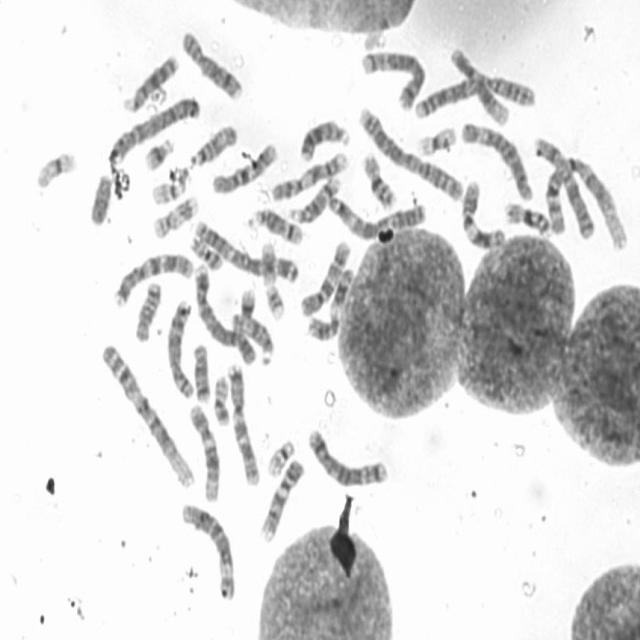A1: (99, 340, 196, 492), (547, 156, 627, 251)
A2: (354, 104, 462, 202), (415, 72, 537, 120)
A3: (194, 218, 299, 286), (328, 195, 426, 241)
B4: (108, 95, 201, 168), (193, 264, 256, 366)
B5: (307, 428, 390, 488), (358, 51, 426, 112)
C10: (298, 240, 352, 318), (212, 143, 279, 194)
C11: (308, 268, 356, 343), (462, 182, 506, 247)
C12: (448, 48, 510, 127), (190, 405, 220, 505)
C6: (458, 121, 532, 202), (181, 506, 237, 602)
C7: (226, 362, 261, 487), (114, 253, 195, 307)
C8: (180, 27, 243, 100), (166, 300, 195, 397)
C9: (271, 150, 348, 203), (260, 460, 306, 544)
D13: (123, 51, 179, 116), (300, 120, 350, 163)
D14: (290, 175, 340, 224), (245, 206, 304, 246)
D15: (230, 311, 273, 367), (189, 123, 238, 171)
E16: (359, 153, 396, 210), (506, 202, 551, 236)
E17: (258, 240, 286, 321), (154, 193, 202, 240)
E18: (134, 281, 164, 343), (191, 344, 212, 404)
F19: (36, 146, 80, 194), (419, 124, 456, 157)
F20: (190, 235, 224, 273), (214, 373, 230, 427)
G21: (145, 138, 175, 170), (240, 286, 257, 327)
G22: (266, 437, 296, 477), (151, 178, 189, 205)
X: (535, 134, 595, 241)
Y: (89, 172, 113, 232)
